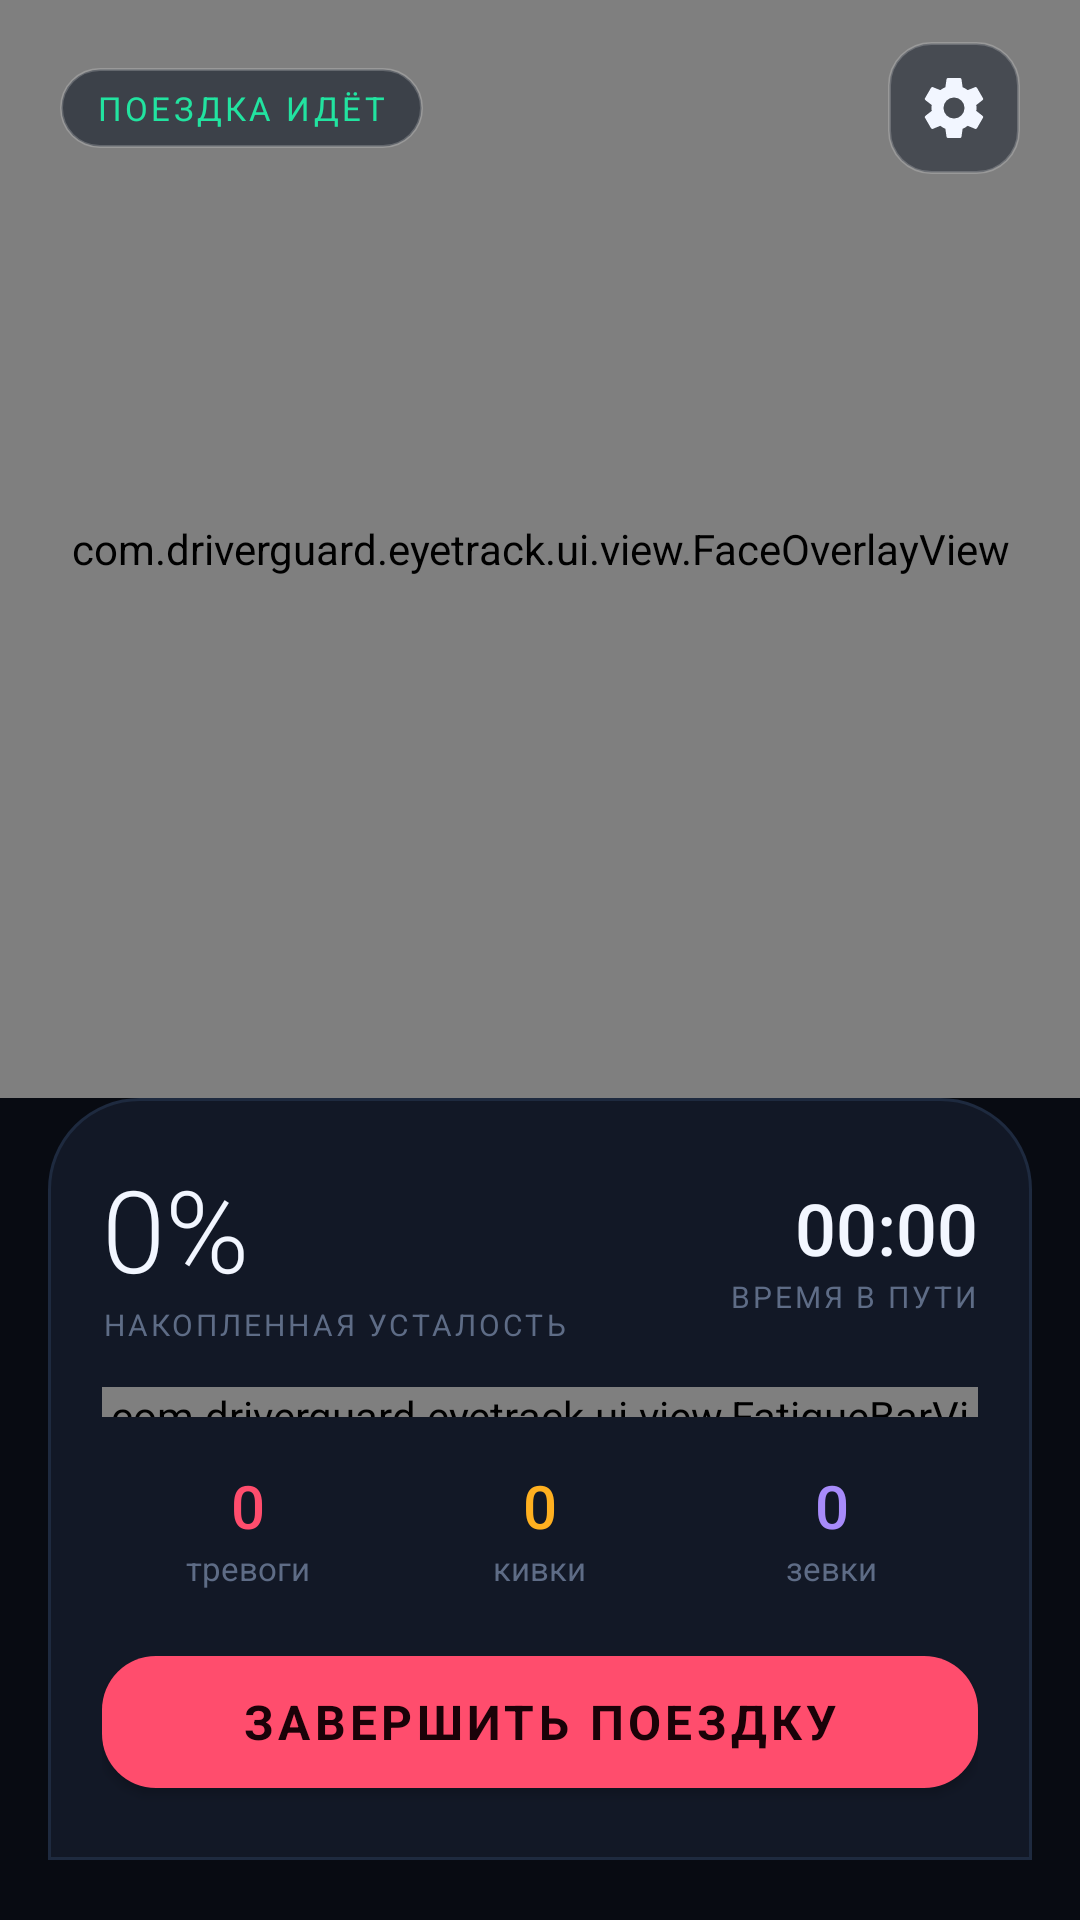

Named icons in this screenshot (1080px x 1920px) and their centers, (x,y):
Настройки: (954,108)
